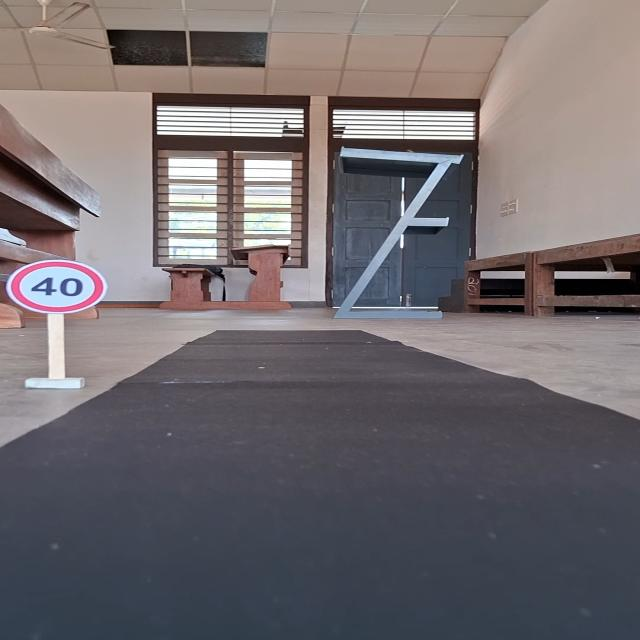Speed40: (3, 258, 110, 318)
